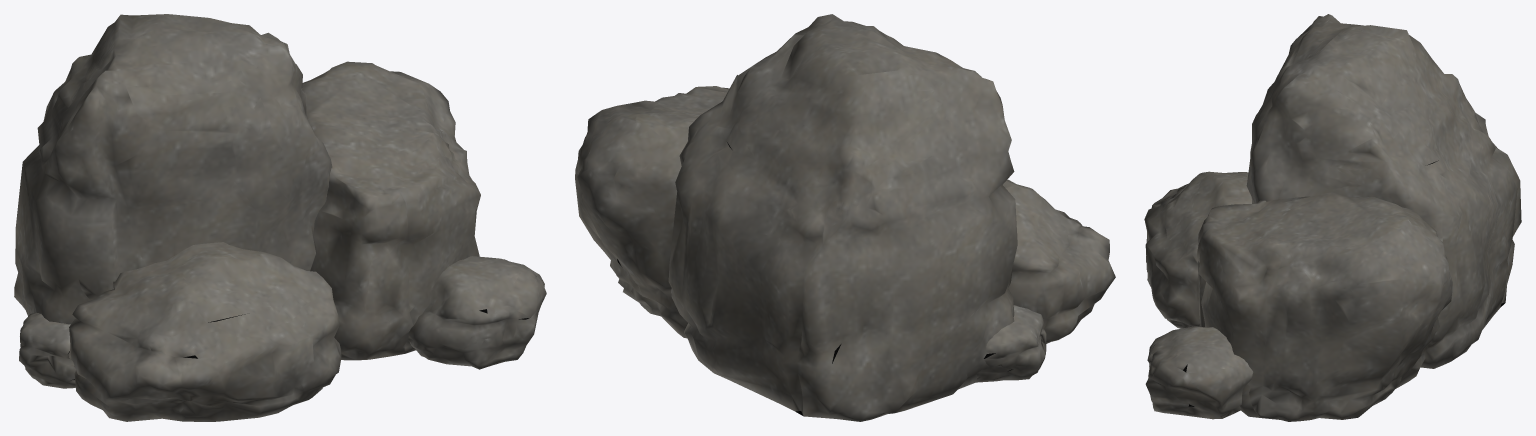
File: fractured_boulder_cluster_LOD0.fbx
The picture shows the model from 3 angles, left to right: view 1: azimuth 30°, elevation 25°; view 2: azimuth 150°, elevation 25°; view 3: azimuth 270°, elevation 25°; orthographic projection. The views are drawn at different scales.
Visible parts, largest first — view 1: fractured_boulder_cluster_LOD0.001; view 2: fractured_boulder_cluster_LOD0.001; view 3: fractured_boulder_cluster_LOD0.001.
Boxes of the visible parts, box(x1,y1,x2,y2) form: fractured_boulder_cluster_LOD0.001: box(14, 14, 546, 421); fractured_boulder_cluster_LOD0.001: box(575, 14, 1115, 421); fractured_boulder_cluster_LOD0.001: box(1144, 14, 1521, 421).
Bounding box in the file's own units: 480 × 320 × 400.
